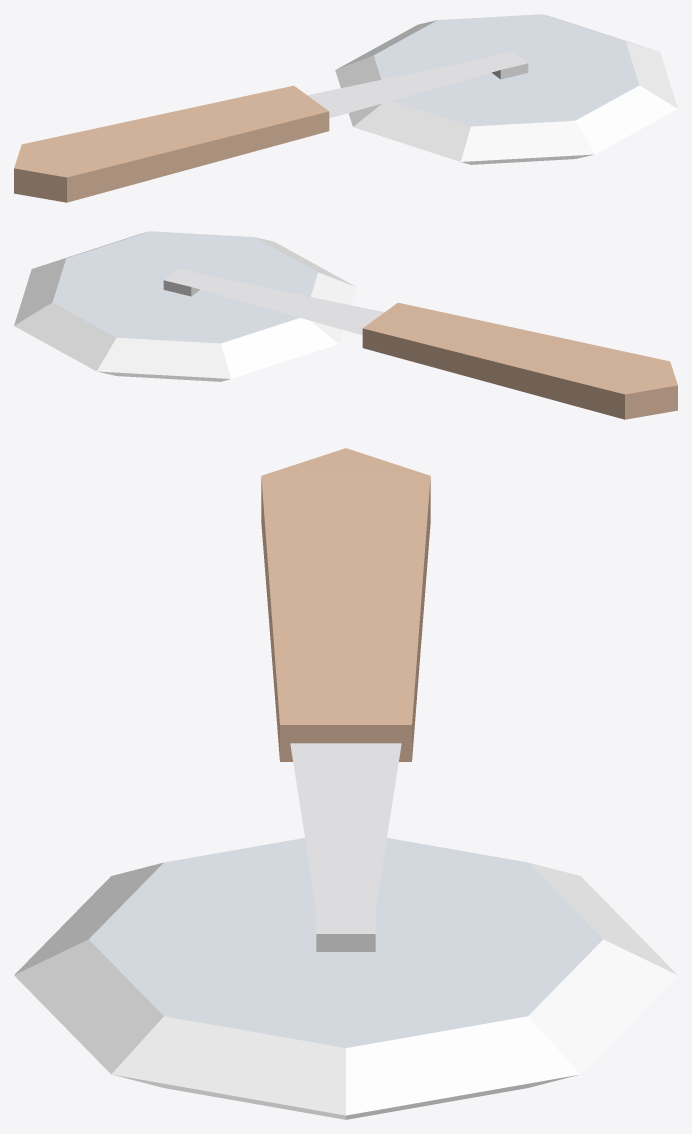
File: pizzaCutter.glb
The picture shows the model from 3 angles, top to bottom: view 1: azimuth 30°, elevation 25°; view 2: azimuth 150°, elevation 25°; view 3: azimuth 270°, elevation 25°; orthographic projection. The views are drawn at different scales.
Visible parts, largest first — view 1: pizzaCutter; view 2: pizzaCutter; view 3: pizzaCutter.
Part boxes in pixels (x1,y1,x2,y2): pizzaCutter: (14, 14, 677, 202); pizzaCutter: (14, 231, 677, 419); pizzaCutter: (14, 448, 677, 1119).
Size of the model in its own units: 0.536 by 0.0556 by 0.2549.
